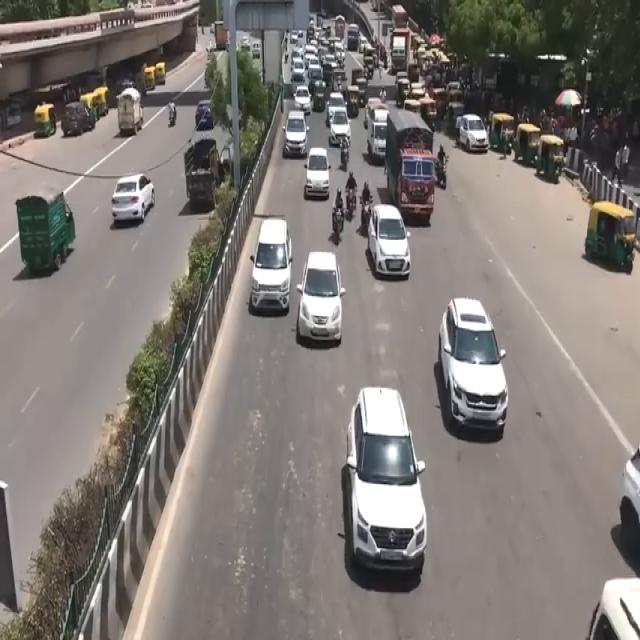MOTORCYCLE: (360, 195, 373, 237), (332, 205, 344, 249), (347, 186, 357, 224)
TRUCK: (391, 149, 438, 228)
